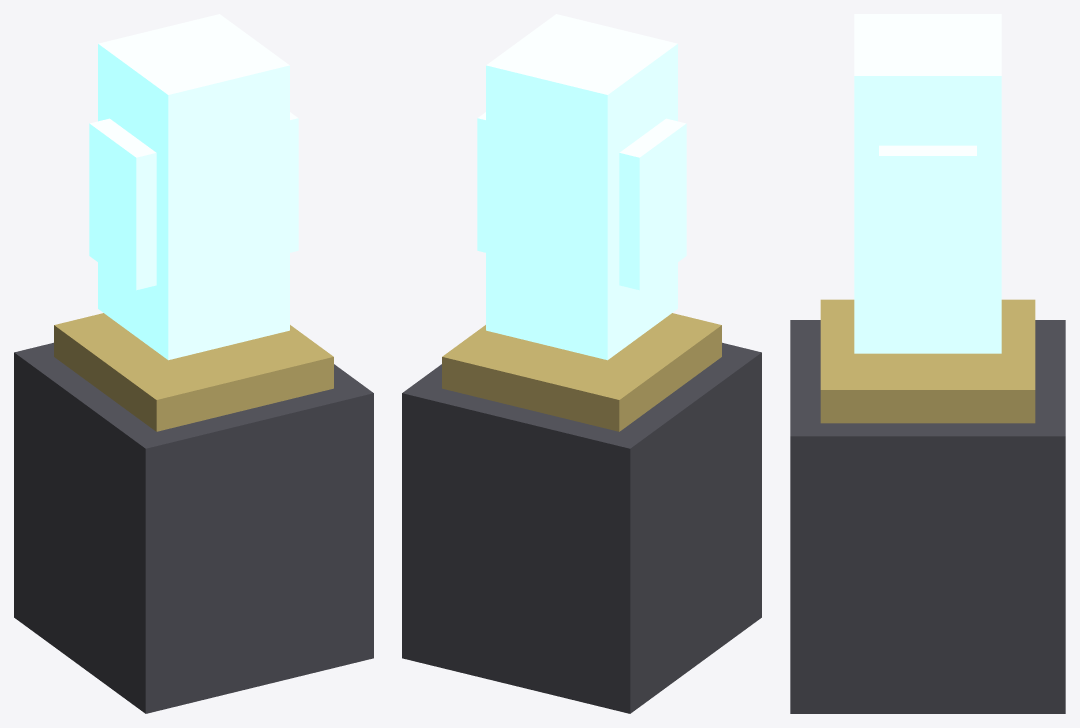
Rendered from mystic_crystal.glb.
3 views of the same model, side by side, from view 1: azimuth 30°, elevation 25°; view 2: azimuth 150°, elevation 25°; view 3: azimuth 270°, elevation 25° (orthographic). The views are drawn at different scales.
Visible parts, largest first — view 1: PedestalBase, CrystalCore, PedestalRing; view 2: PedestalBase, CrystalCore, PedestalRing; view 3: PedestalBase, CrystalCore, PedestalRing.
Part boxes in pixels (box(x1,y1,x2,y2)): PedestalBase: box(14, 342, 373, 713); CrystalCore: box(89, 14, 298, 360); PedestalRing: box(54, 313, 333, 431); PedestalBase: box(402, 342, 761, 713); CrystalCore: box(477, 14, 686, 360); PedestalRing: box(442, 313, 721, 431); PedestalBase: box(790, 320, 1065, 713); CrystalCore: box(854, 14, 1001, 353); PedestalRing: box(820, 299, 1035, 423).
Size of the model in its own units: 0.45 by 1.1 by 0.45.
